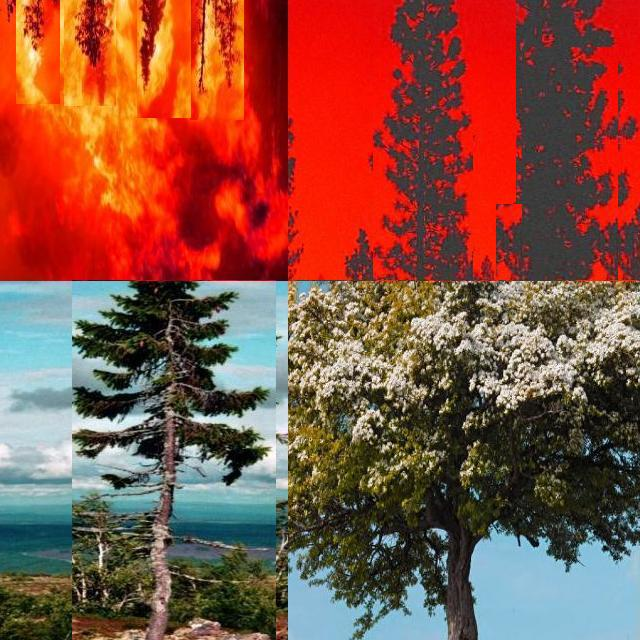tree: (288, 280, 640, 640), (72, 280, 276, 640), (516, 0, 640, 280), (373, 0, 473, 280), (522, 47, 618, 281), (288, 0, 340, 280), (288, 0, 336, 280), (190, 0, 244, 120), (137, 0, 191, 118), (64, 0, 116, 106), (16, 0, 60, 104), (496, 204, 548, 280), (288, 124, 308, 280), (1, 0, 23, 124), (0, 0, 24, 100), (0, 1, 14, 72), (0, 0, 12, 60)
